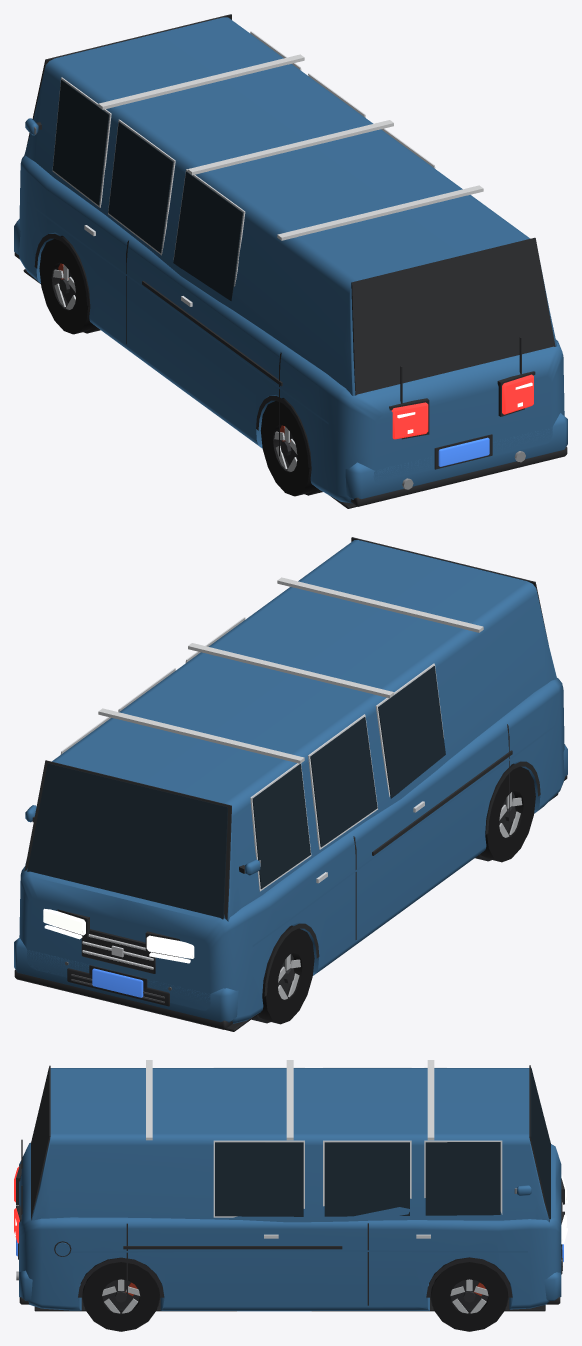
File: car_van_passenger_blue.glb
3 renders of one model, top to bottom at view 1: azimuth 30°, elevation 25°; view 2: azimuth 150°, elevation 25°; view 3: azimuth 270°, elevation 25°, orthographic. The views are drawn at different scales.
Visible parts, largest first — view 1: Body, Trim, Glass, Wheel_FL, Wheel_RL, Lights, Plate_R; view 2: Body, Glass, Trim, Wheel_FL, Wheel_RL, Lights, Plate_F; view 3: Body, Glass, Trim, Wheel_FR, Wheel_RR, Lights.
Part boxes in pixels (x1,y1,x2,y2): Body: [14, 17, 567, 503]; Trim: [14, 14, 567, 508]; Glass: [34, 80, 242, 301]; Wheel_FL: [39, 236, 94, 334]; Wheel_RL: [260, 398, 316, 496]; Lights: [391, 374, 533, 439]; Plate_R: [438, 437, 489, 466]; Body: [14, 540, 567, 1023]; Glass: [27, 666, 445, 919]; Trim: [14, 537, 567, 1031]; Wheel_FL: [258, 926, 314, 1024]; Wheel_RL: [480, 764, 535, 862]; Lights: [43, 908, 194, 963]; Plate_F: [92, 968, 143, 997]; Body: [19, 1068, 561, 1311]; Glass: [215, 1068, 550, 1219]; Trim: [16, 1060, 564, 1311]; Wheel_FR: [431, 1257, 507, 1331]; Wheel_RR: [82, 1257, 159, 1331]; Lights: [14, 1166, 567, 1244].
Size of the model in its own units: 2.04 by 2.02 by 5.31.
